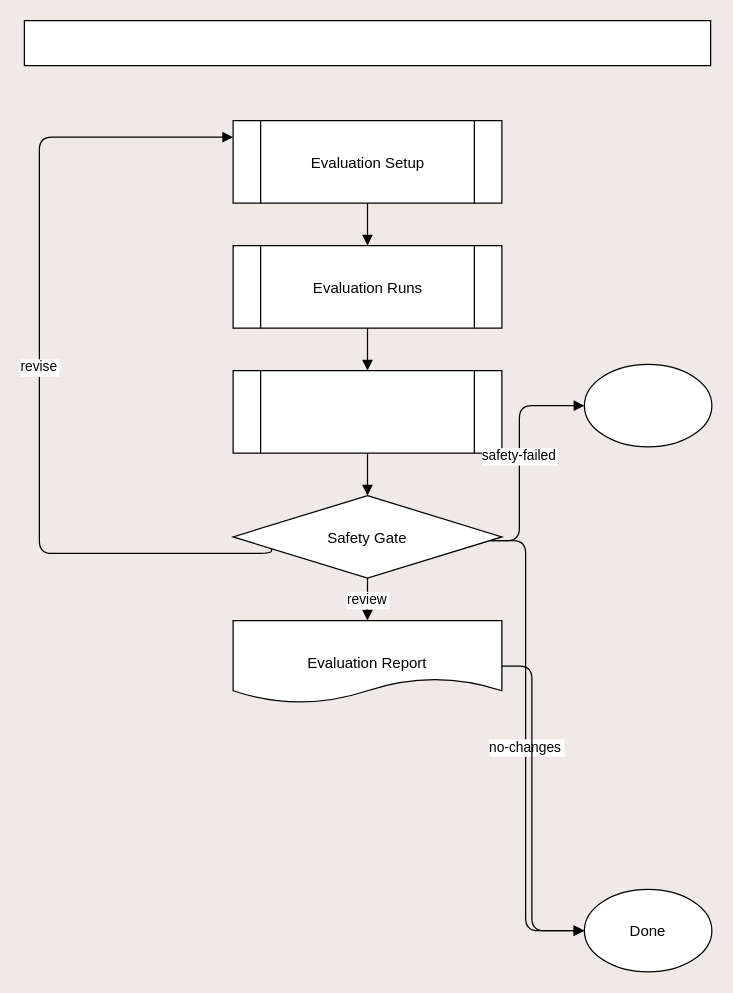
Some shapes in this 733 by 993 pixel diagram are drawn without their labels. The centre of each missing label's shape, as x and y in pixels:
"Agent Evaluation workflow" belongs at pixel 367 42.
"Collect Results" belongs at pixel 367 411.
"Safety Failed" belongs at pixel 647 405.
